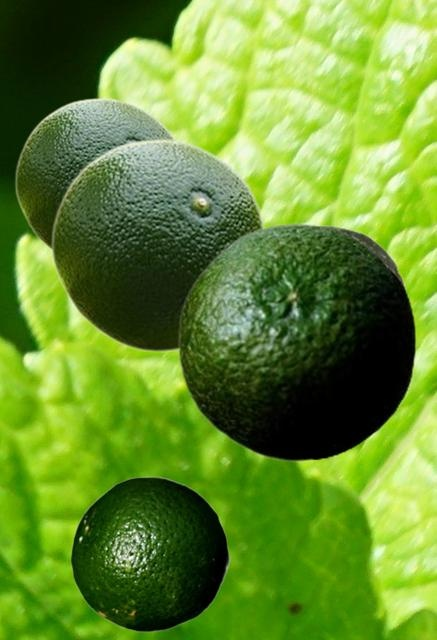calamansi: (177, 222, 415, 461), (50, 138, 266, 351), (70, 476, 229, 631), (14, 97, 175, 249), (323, 225, 408, 291)
